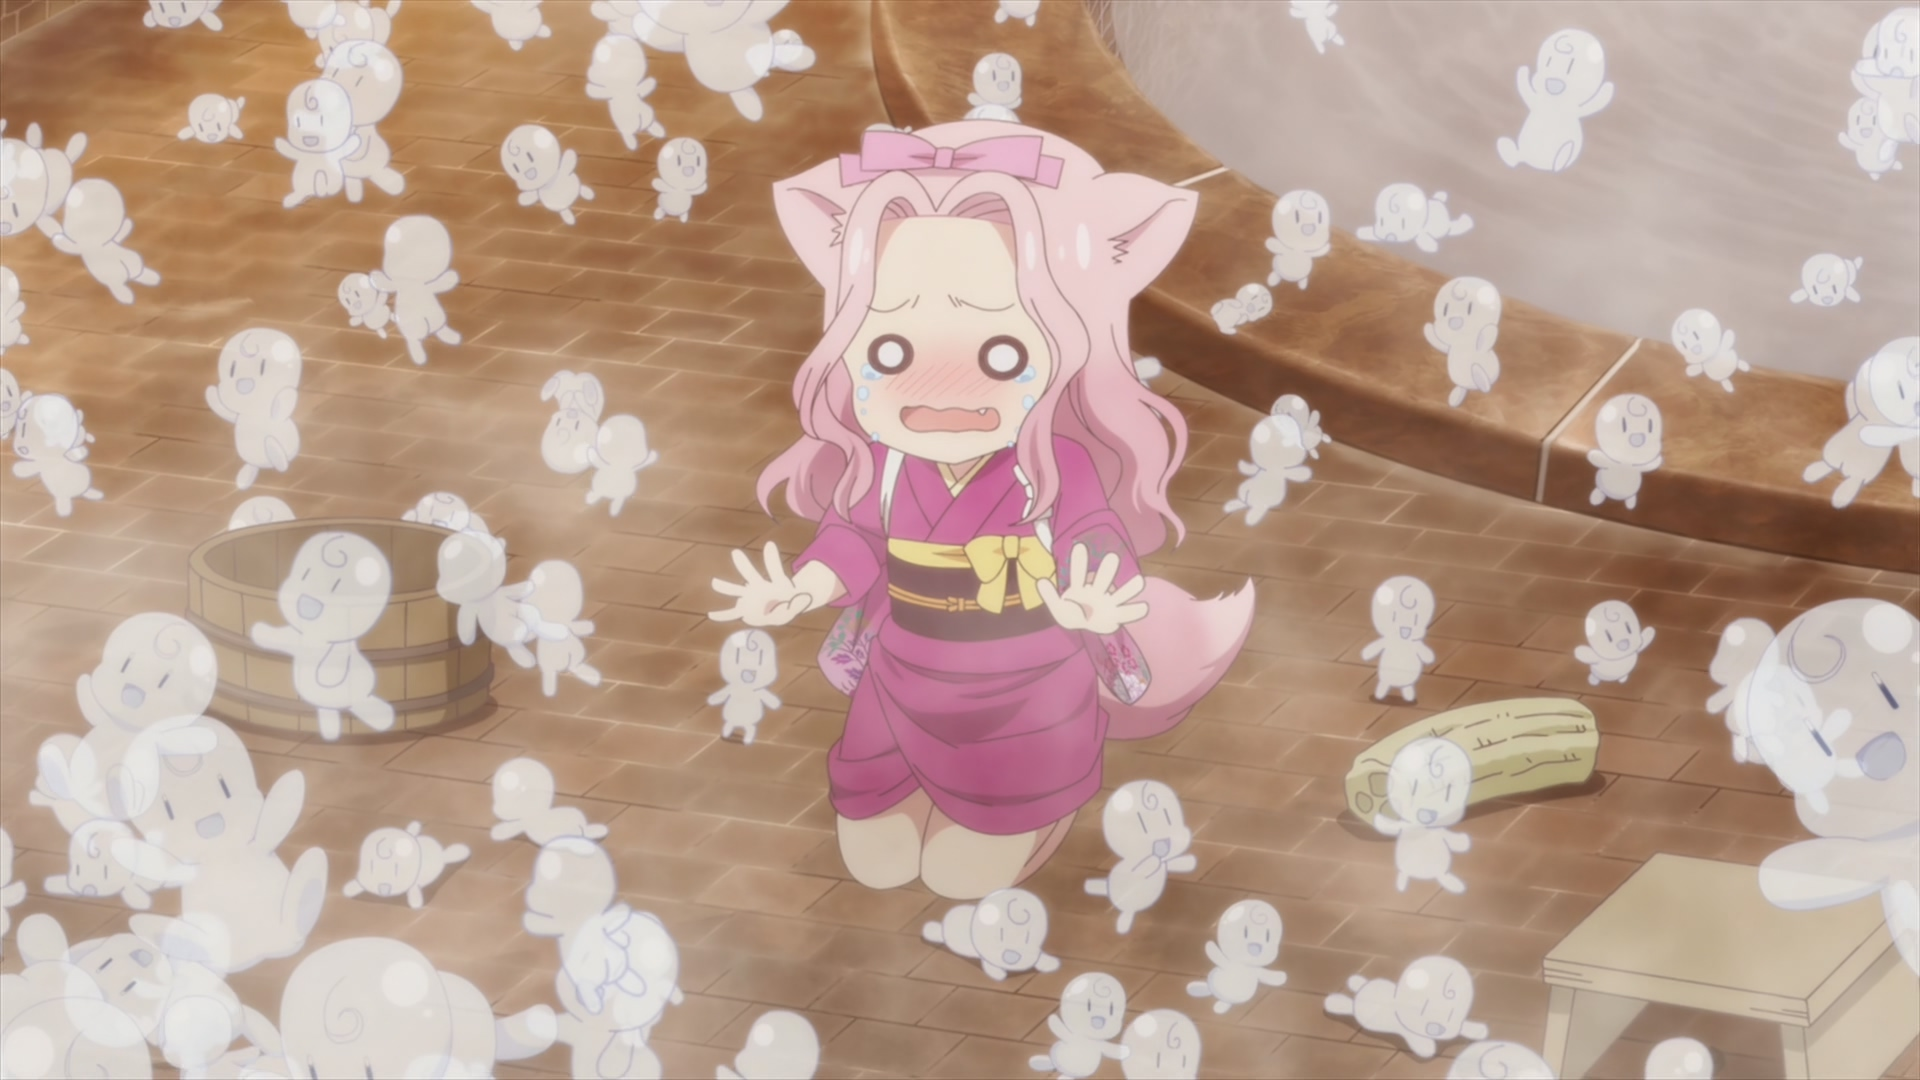莲: (708, 119, 1253, 901)
